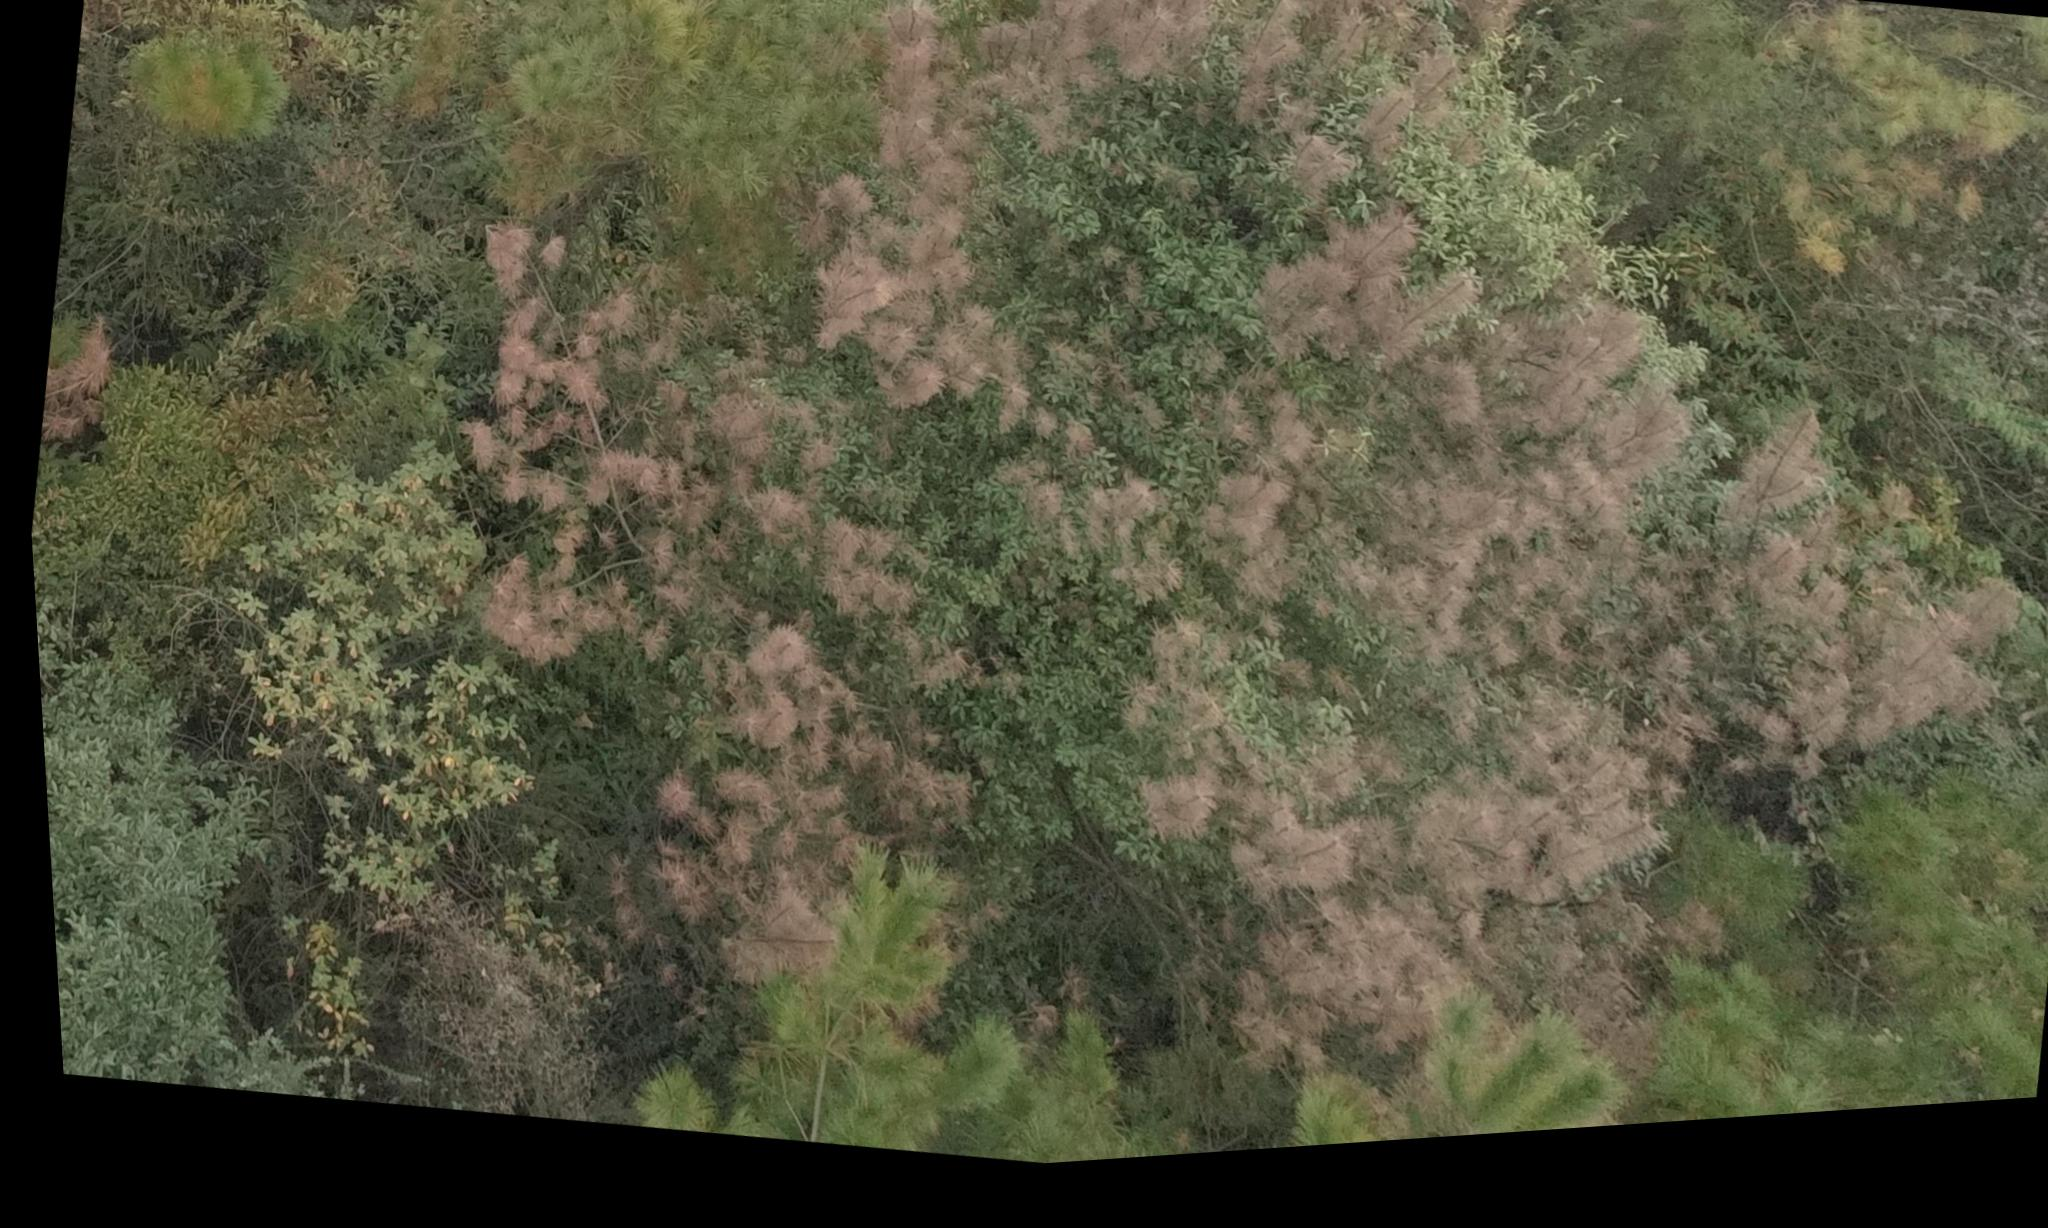heavy: (1072, 153, 2048, 1172), (327, 168, 1009, 1041), (824, 0, 1589, 205)
